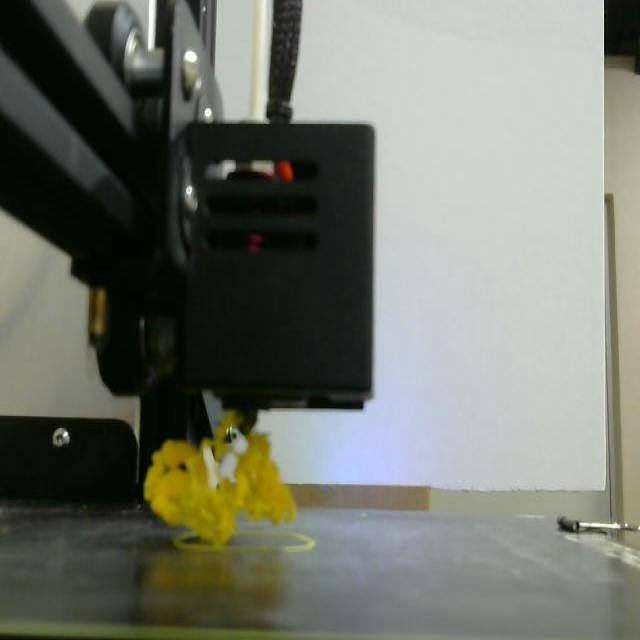spaghetti: (149, 416, 300, 554)
